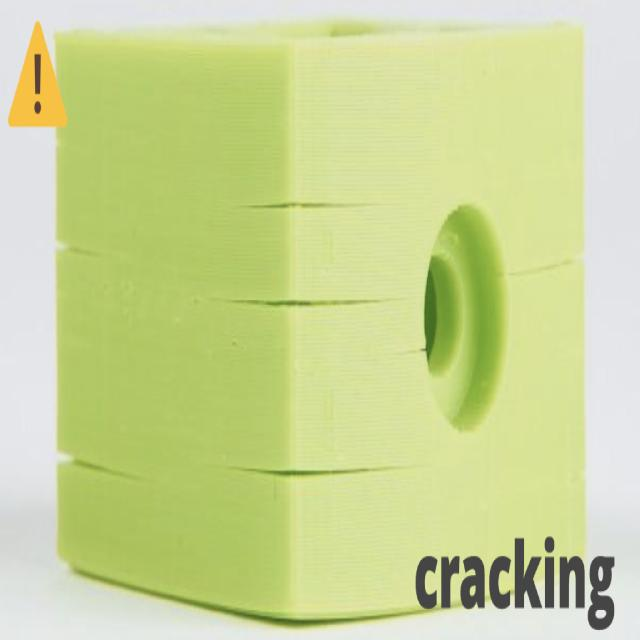cracks: (222, 155, 395, 531)
